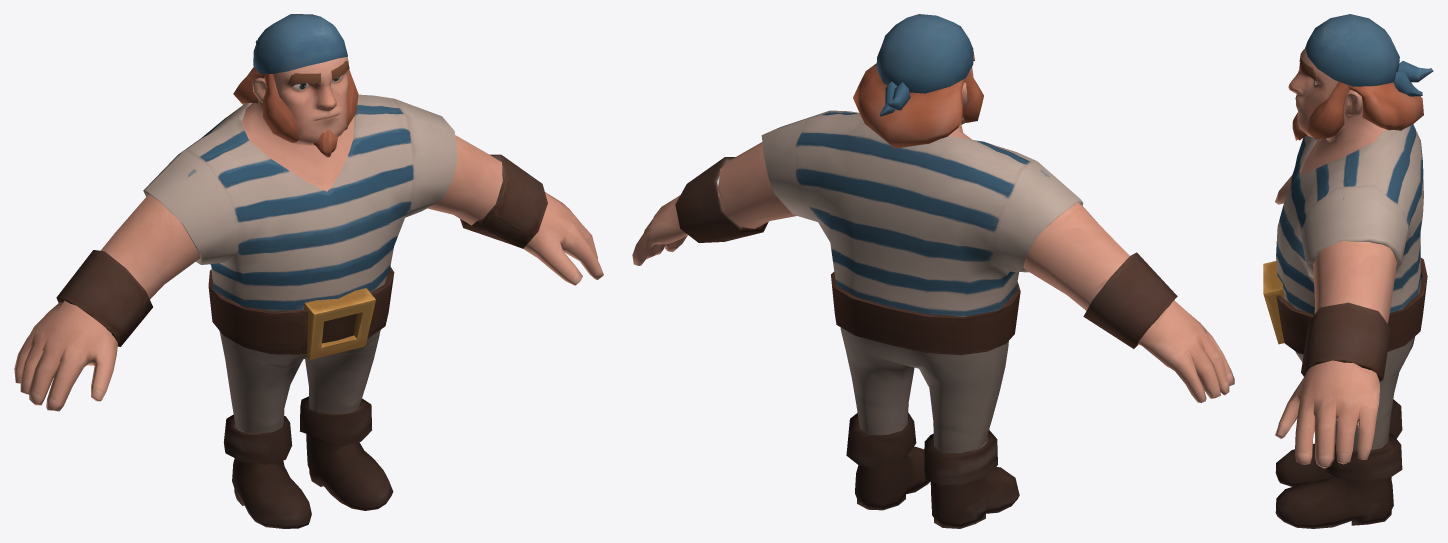
The model's file is male-pirate.fbx.
3 views of the same model, side by side, from view 1: azimuth 30°, elevation 25°; view 2: azimuth 150°, elevation 25°; view 3: azimuth 270°, elevation 25° (orthographic). The views are drawn at different scales.
Visible parts, largest first — view 1: 3; view 2: 3; view 3: 3.
Part boxes in pixels (<box>): 3: <box>14,14,603,528</box>; 3: <box>632,14,1234,528</box>; 3: <box>1263,14,1433,528</box>.
Size of the model in its own units: 2121 by 1688 by 545.
Materials: 1 (1 with a texture image).
